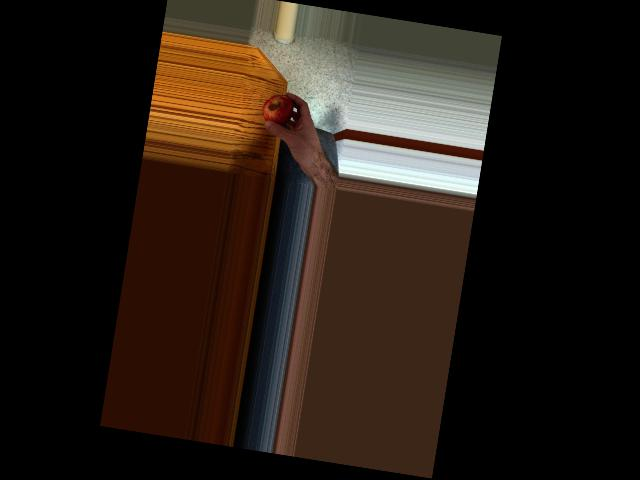apple: (258, 90, 296, 131)
